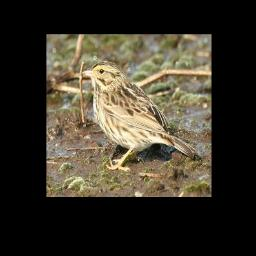Sparrow: (82, 59, 200, 173)
